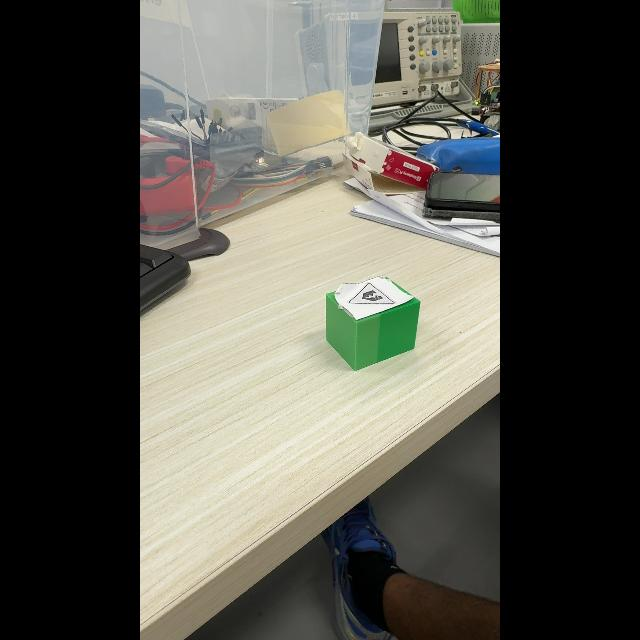Earthquake: (348, 283, 395, 304)
